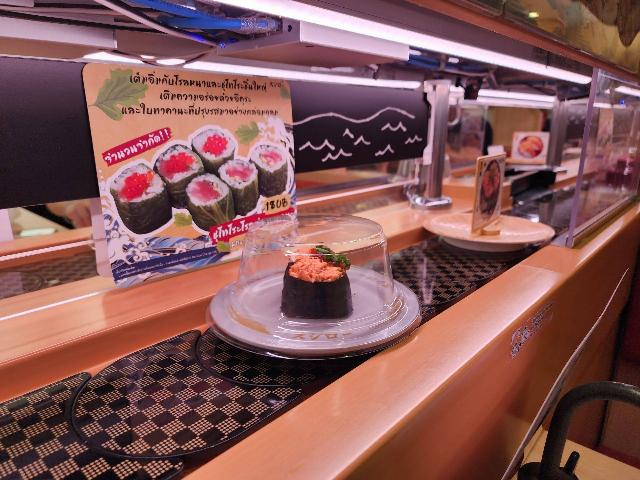janwhite: (203, 265, 412, 381)
